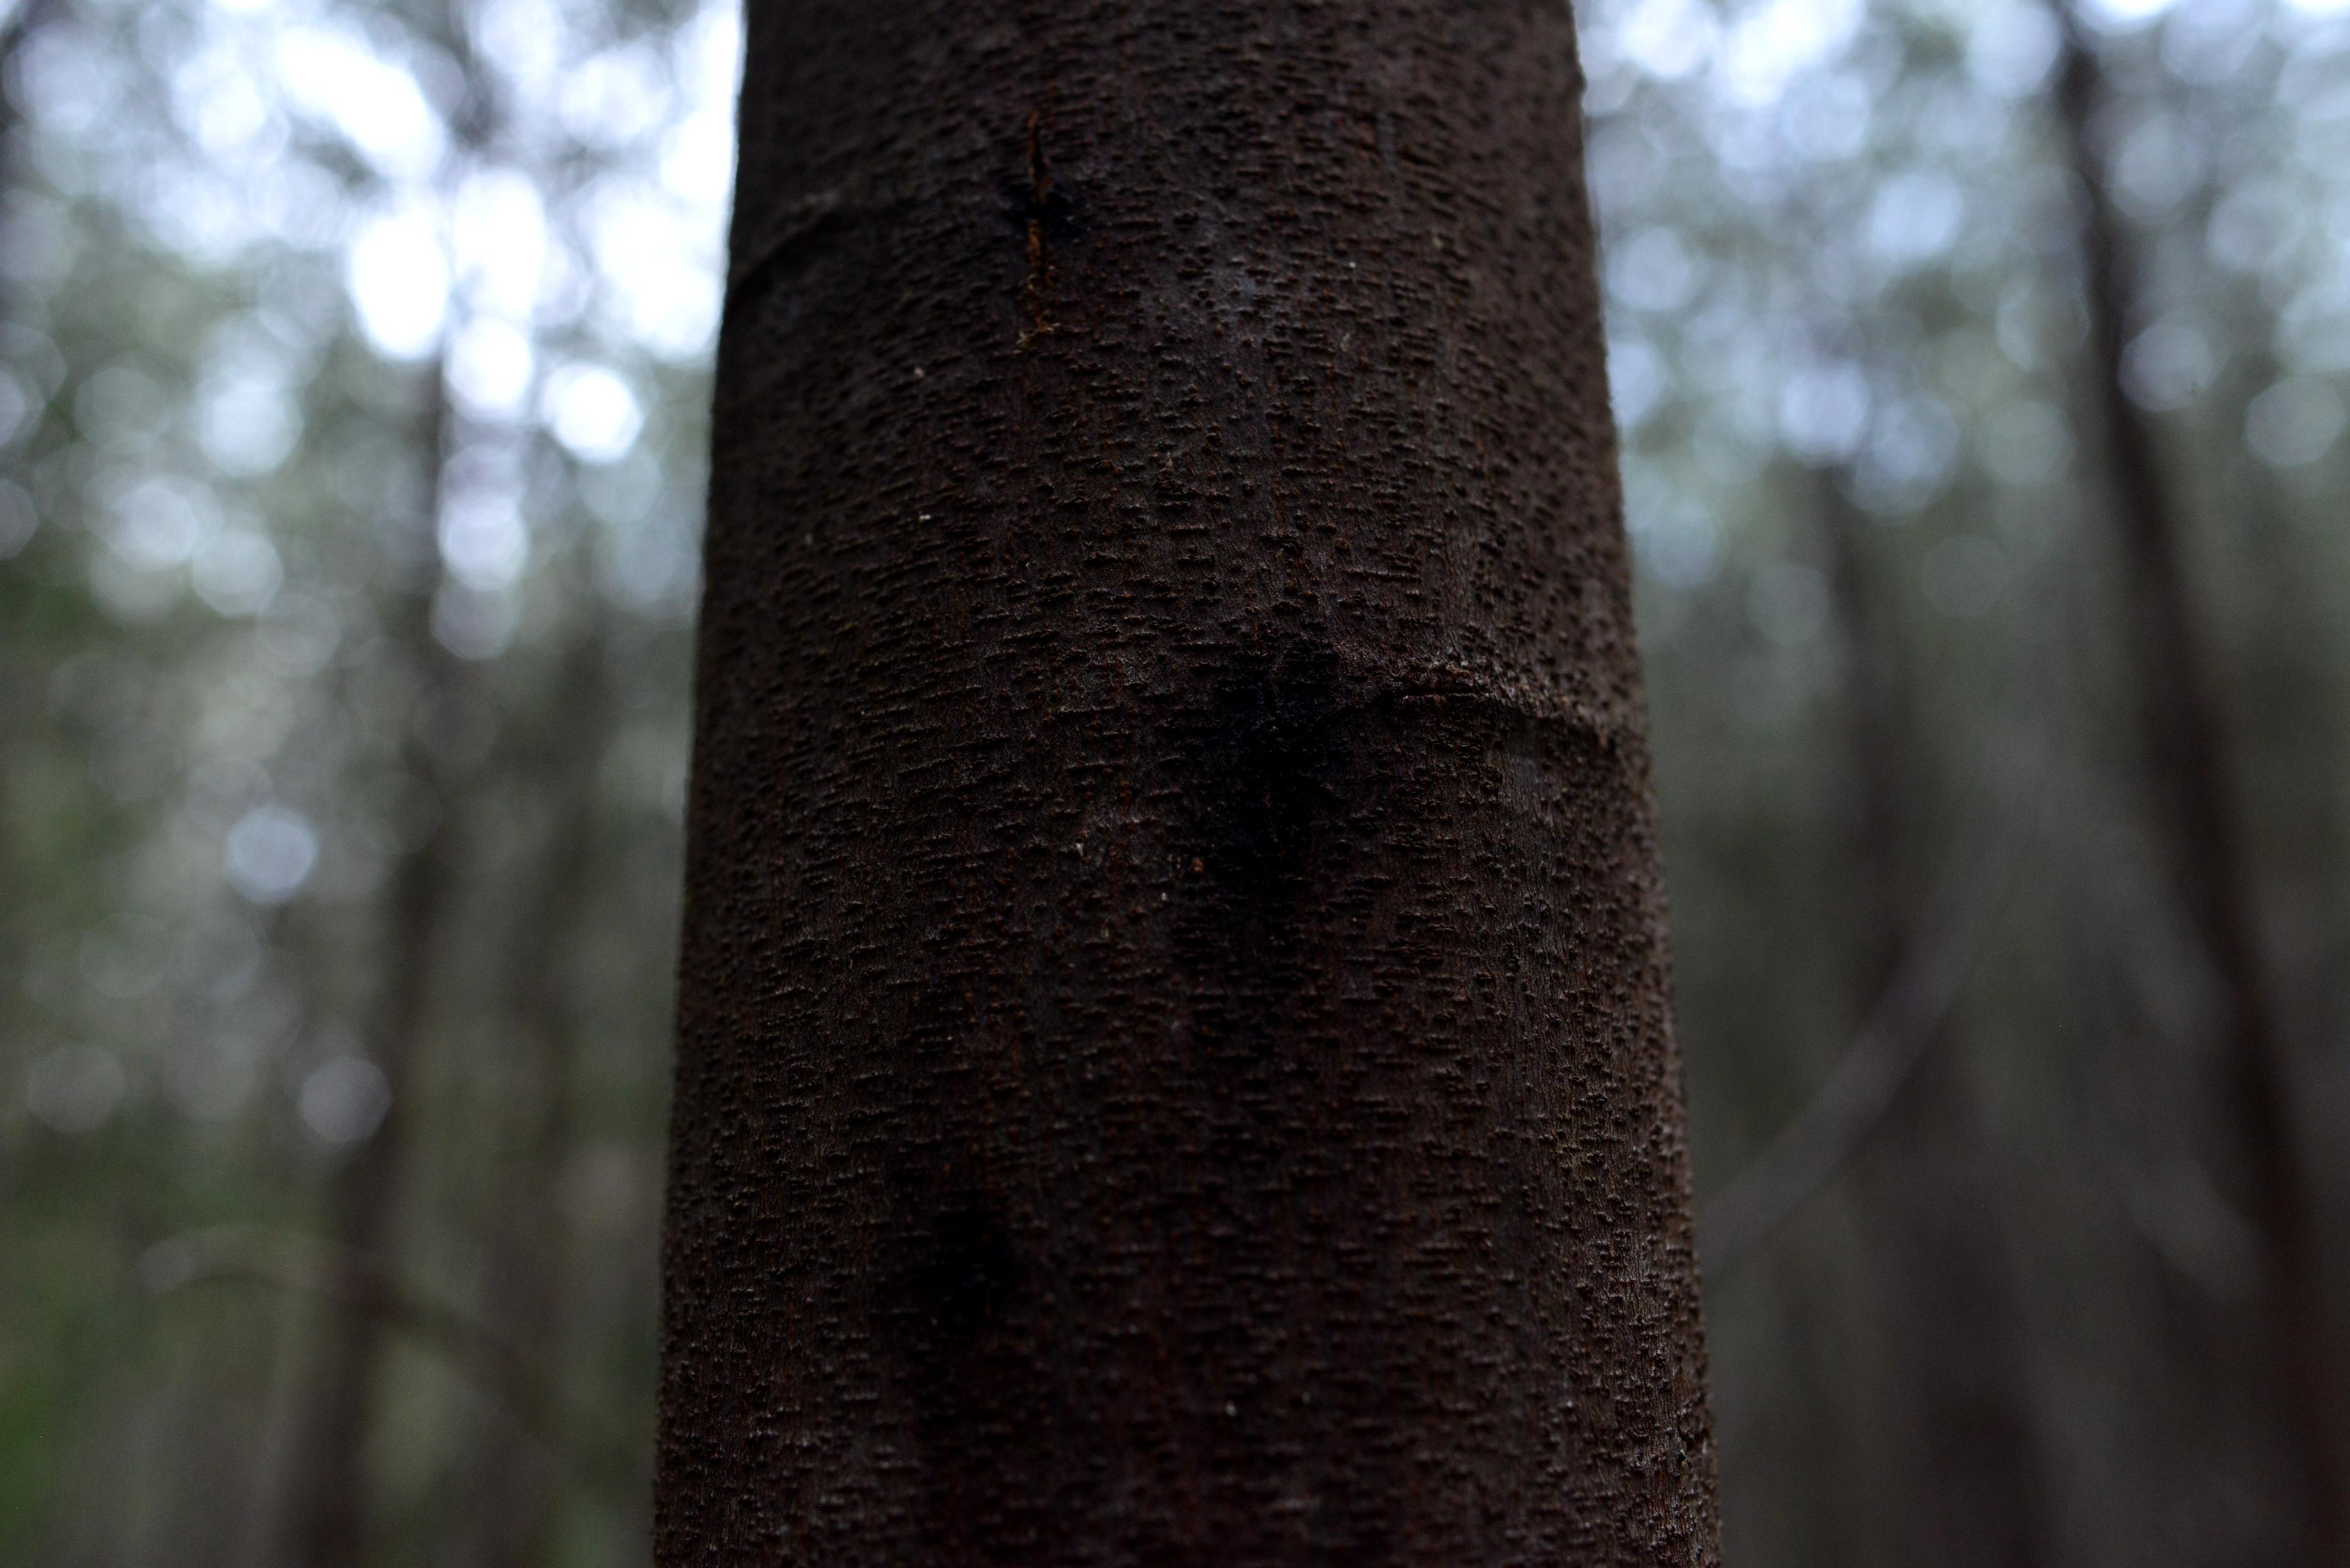Stem Borer: (1183, 630, 1361, 1062), (847, 1108, 1057, 1414), (987, 122, 1130, 299)
